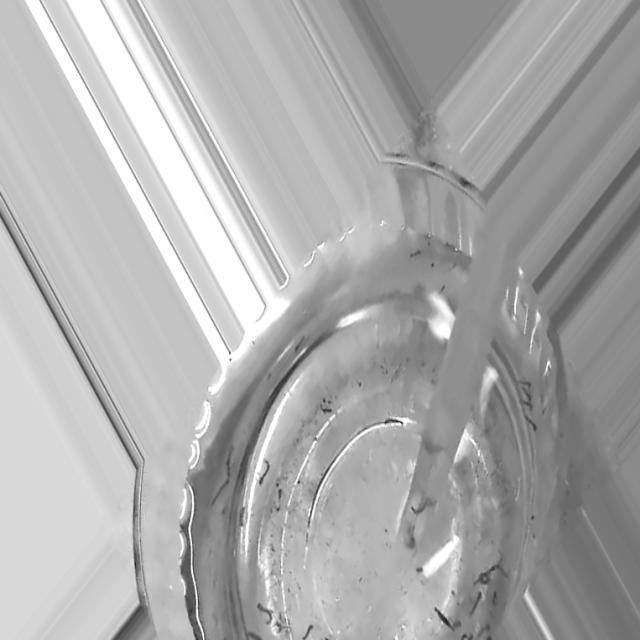larvas: (410, 497, 431, 516), (490, 554, 504, 576), (257, 602, 271, 624), (436, 608, 452, 627), (469, 592, 482, 615), (258, 460, 269, 483), (524, 416, 538, 433), (383, 418, 404, 428), (516, 400, 535, 410), (294, 335, 304, 353), (476, 570, 488, 585), (518, 388, 534, 399), (303, 624, 313, 640), (515, 380, 534, 388), (460, 630, 475, 640), (411, 249, 422, 262), (479, 624, 490, 636), (248, 629, 260, 640), (276, 619, 282, 634), (492, 589, 496, 606)
